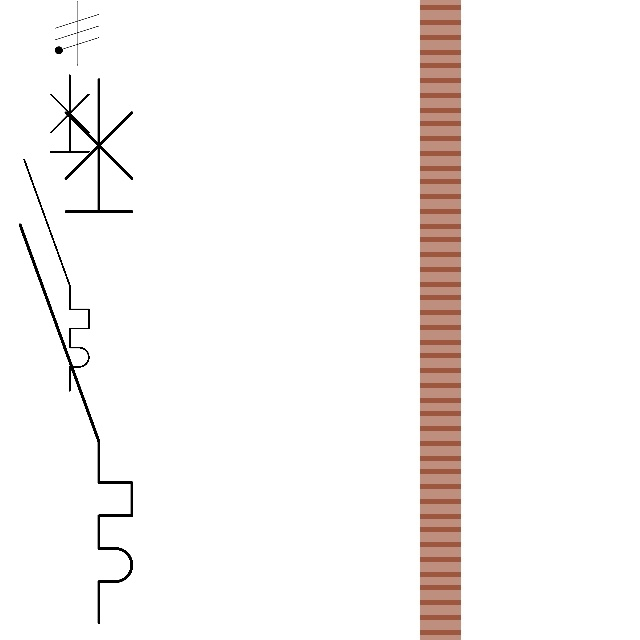interruptor_termomagnetico: (6, 65, 146, 636), (16, 67, 97, 399)
